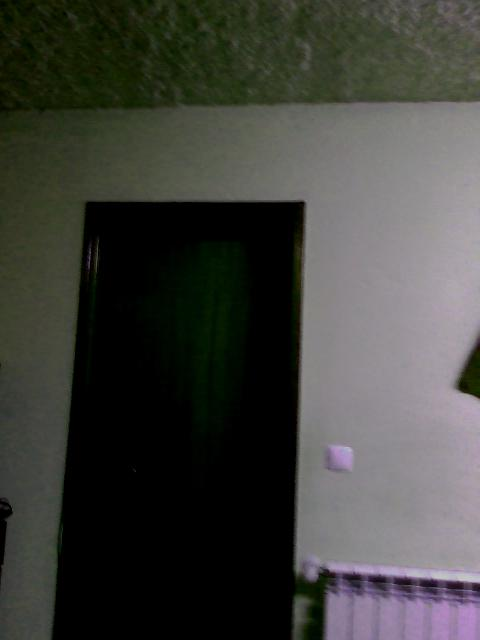closed_door: (51, 201, 302, 638)
